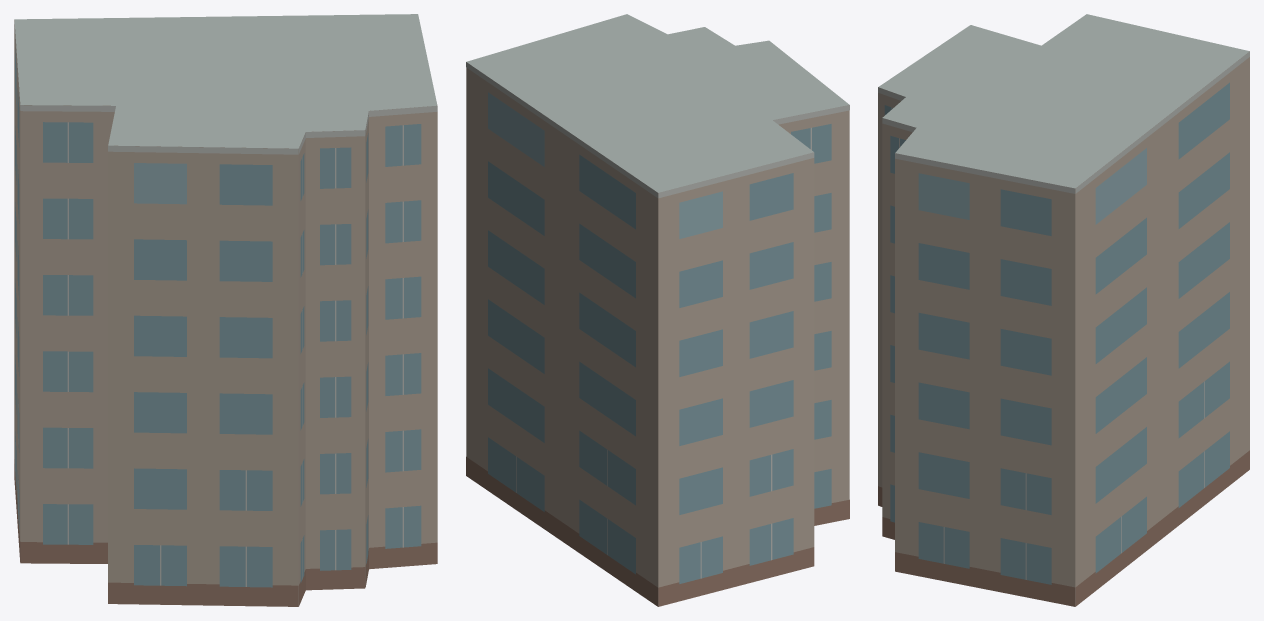
File: survey-upis-32888850.glb
The picture shows the model from 3 angles, left to right: view 1: azimuth 30°, elevation 25°; view 2: azimuth 150°, elevation 25°; view 3: azimuth 270°, elevation 25°; orthographic projection. The views are drawn at different scales.
Visible parts, largest first — view 1: survey-upis-32888850.tmp; view 2: survey-upis-32888850.tmp; view 3: survey-upis-32888850.tmp.
Part boxes in pixels (x1,y1,x2,y2): survey-upis-32888850.tmp: (14,14,437,606); survey-upis-32888850.tmp: (466,14,849,606); survey-upis-32888850.tmp: (878,14,1249,606).
Bounding box in the file's own units: 16.37 × 18.3 × 14.74.
